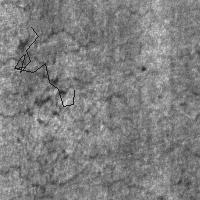crazing: (2, 24, 127, 122), (5, 141, 168, 198), (14, 27, 74, 106)
